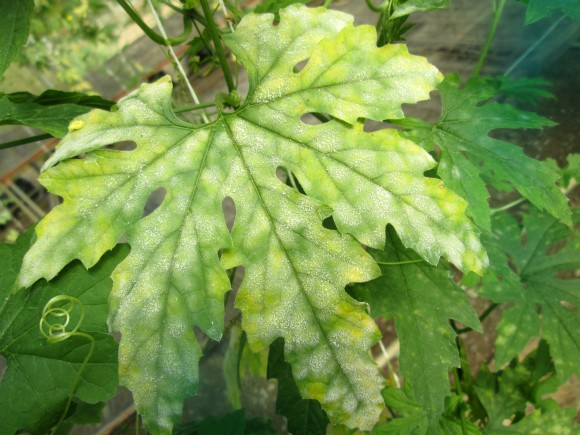BitterGround_PowderyMildew: (54, 22, 469, 413)
